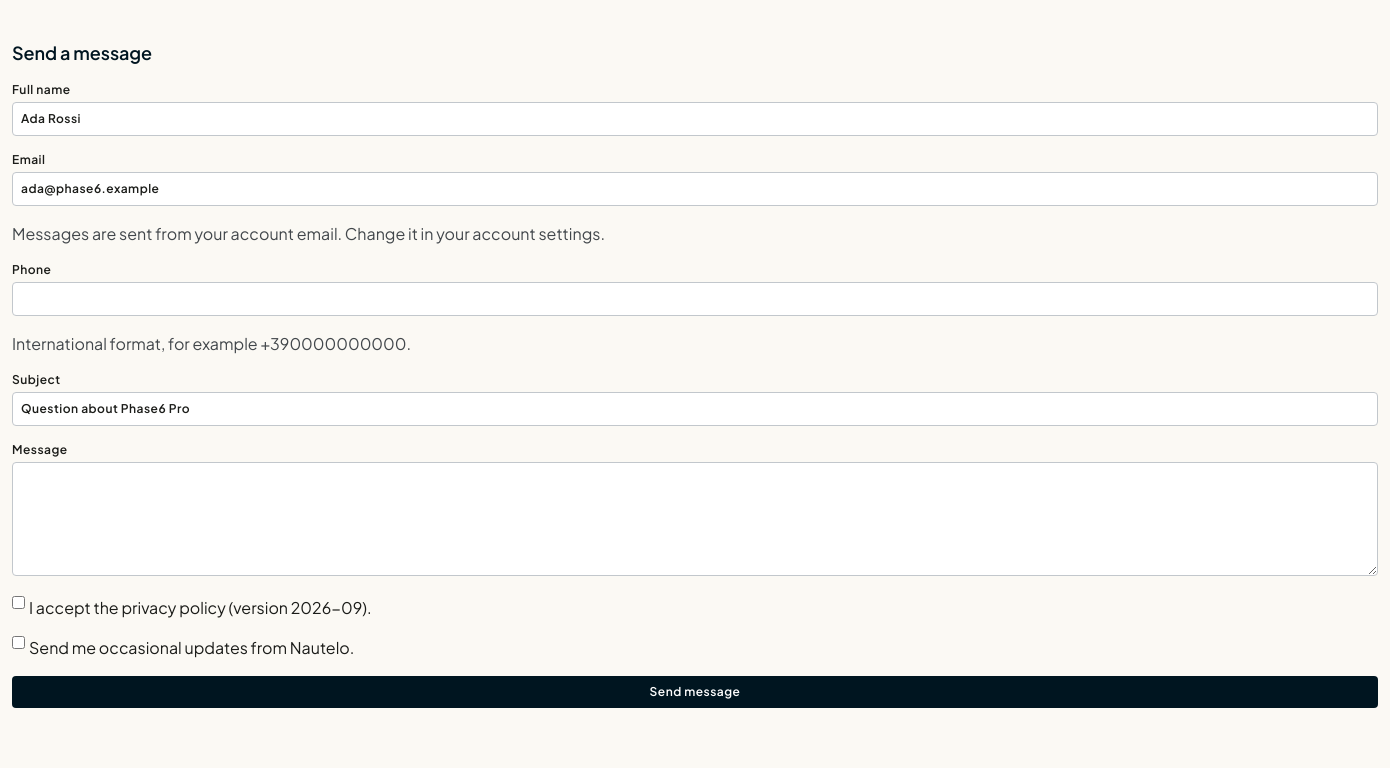
Scenario: InquiryForm › will not send without privacy consent
In the text box labelled "Message": (695, 519) [12,462,1378,576], type "I would like to arrange a viewing next week please."
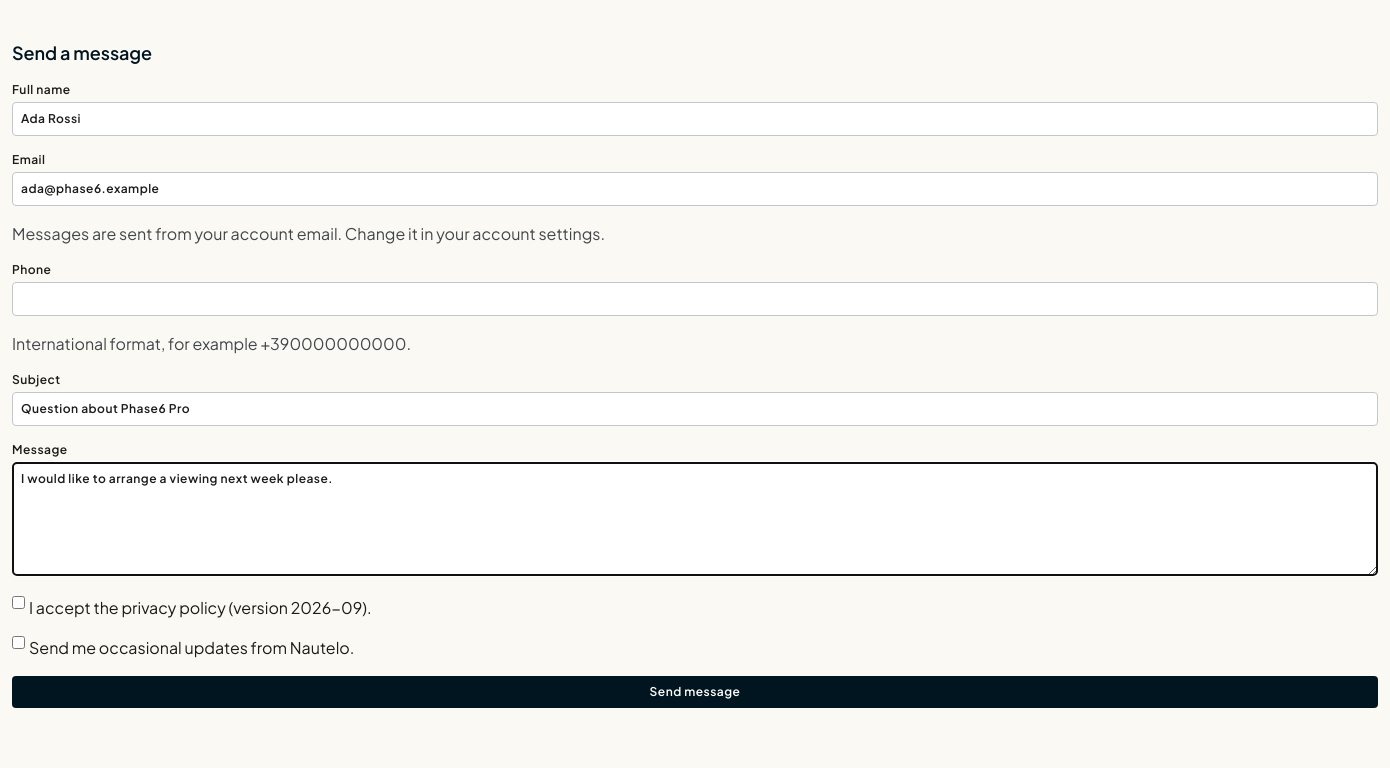
Click the button "Send message": (695, 692) [12,676,1378,708]
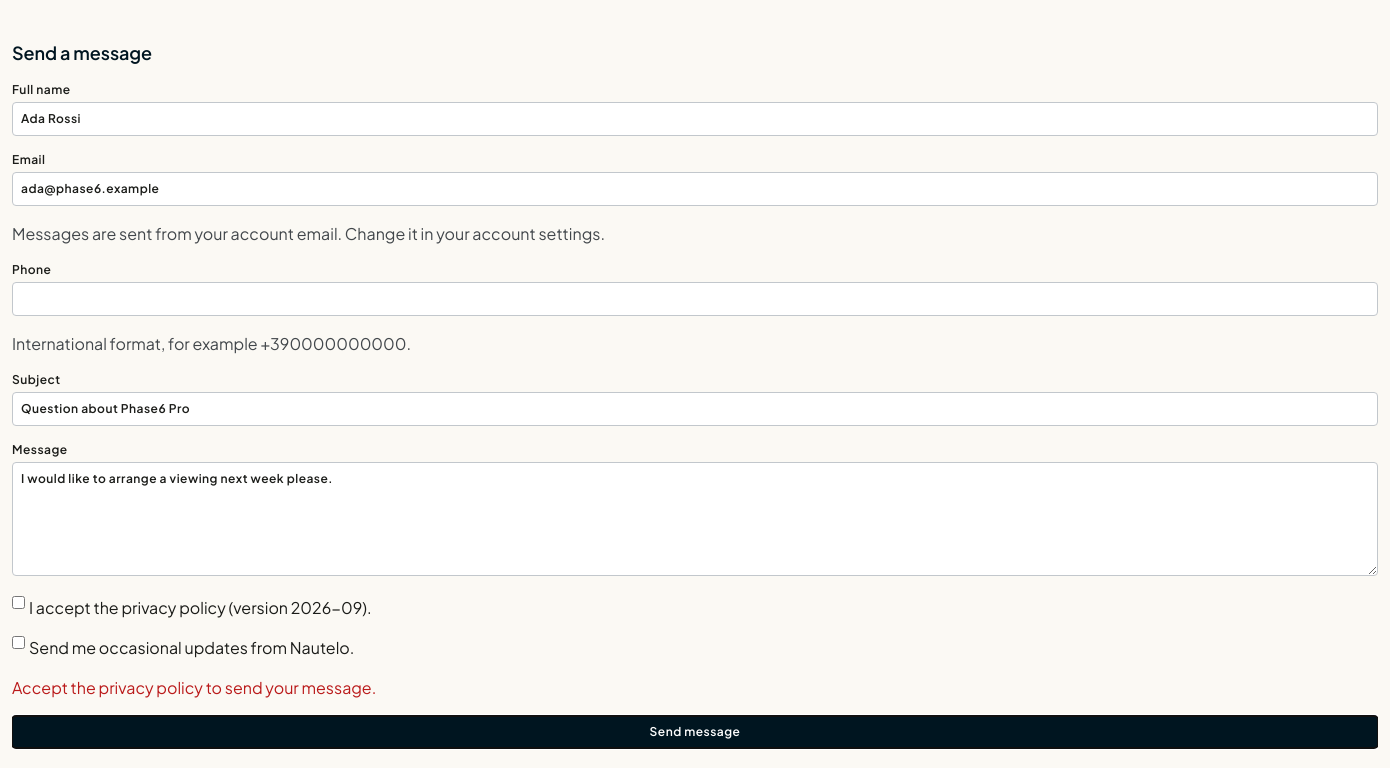
Check: the message reads "Accept the privacy policy to send your message.", box [12,677,376,698]
